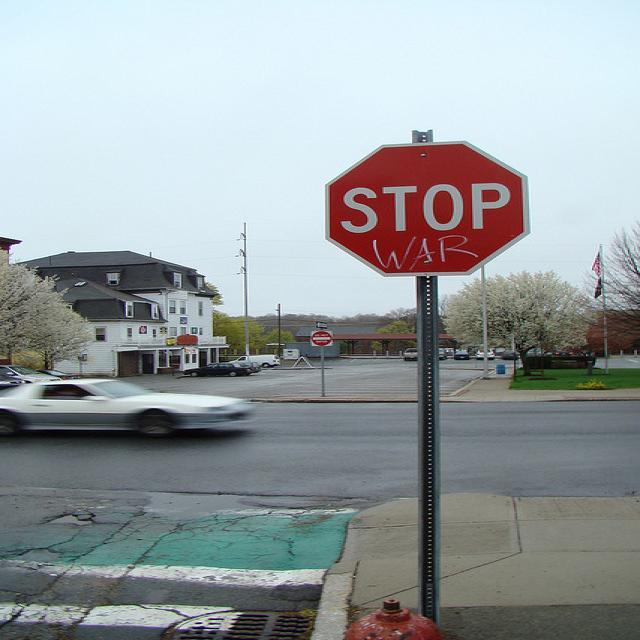fire_hydrant: (343, 598, 439, 639)
